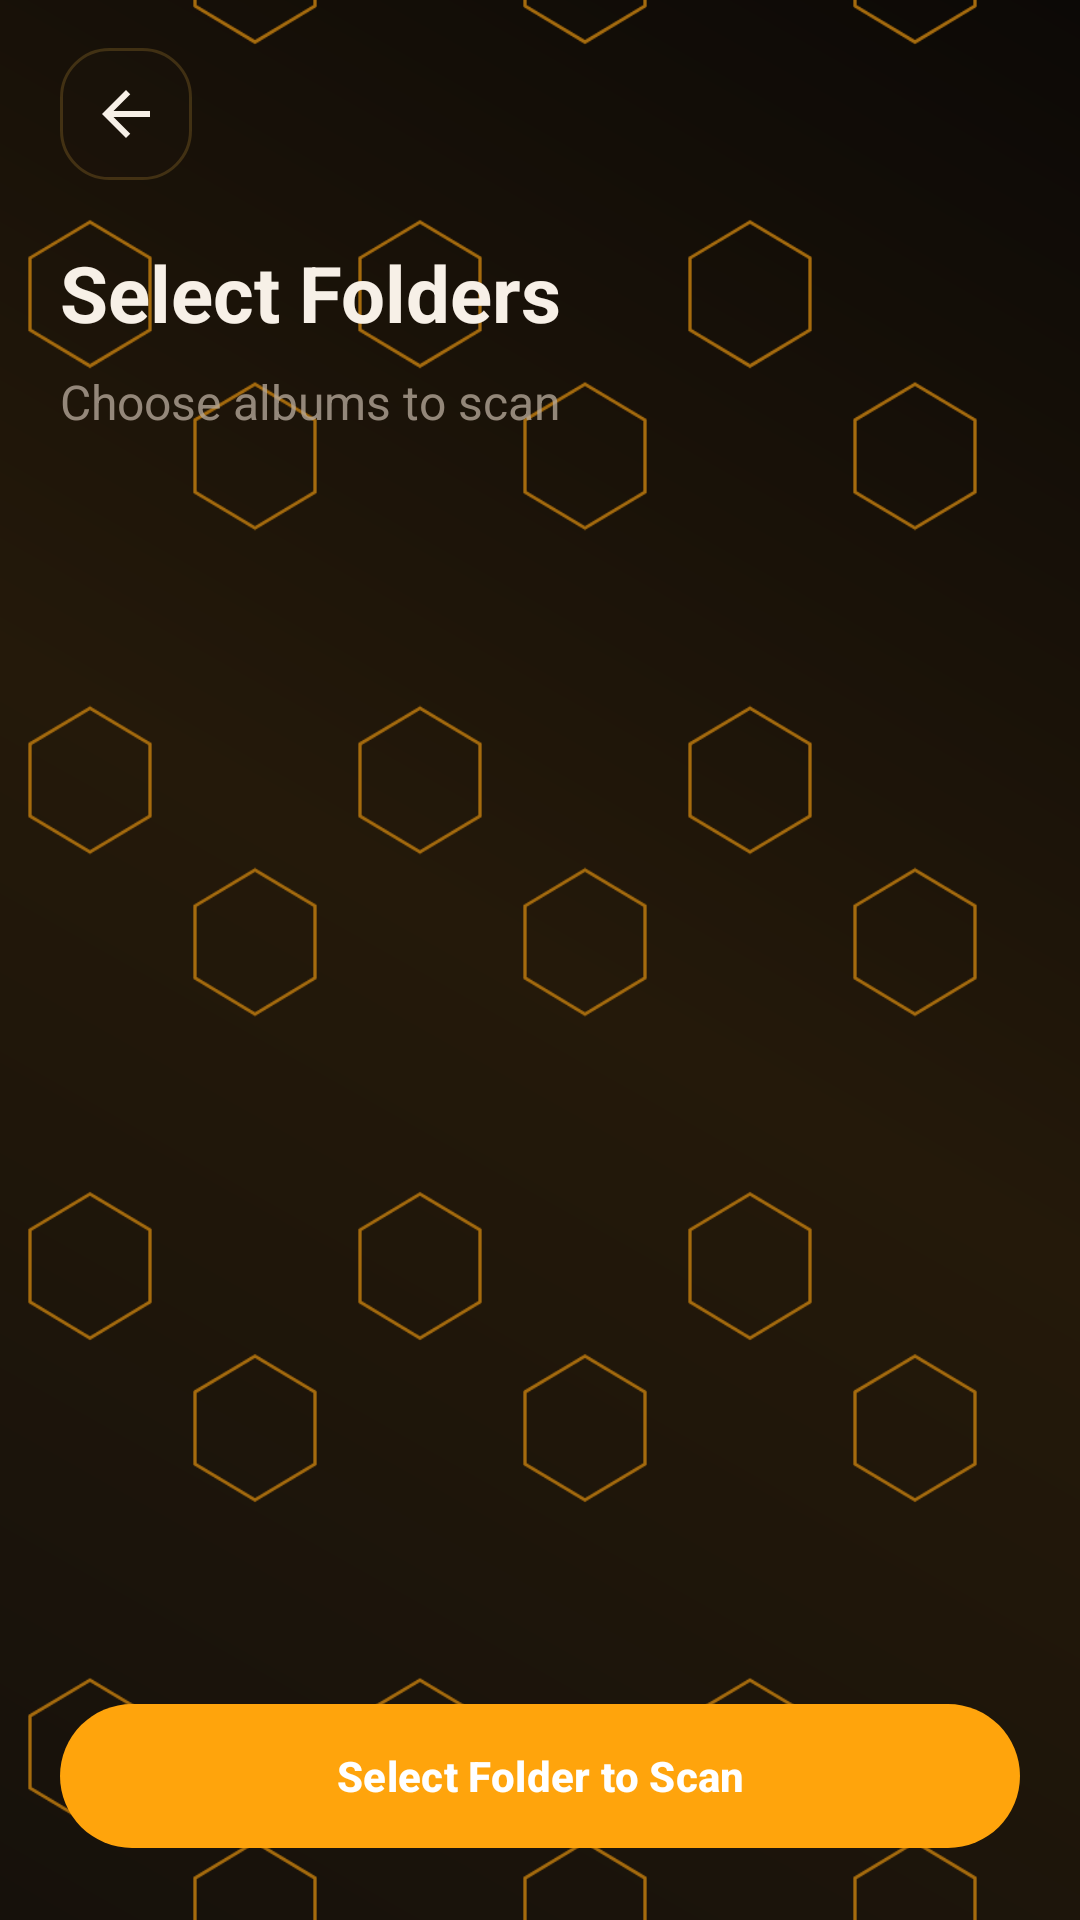

Named icons in this screenshot (1080px x 1920px) and their centers, (x=x, y=y):
Back to Home: (x=126, y=114)
